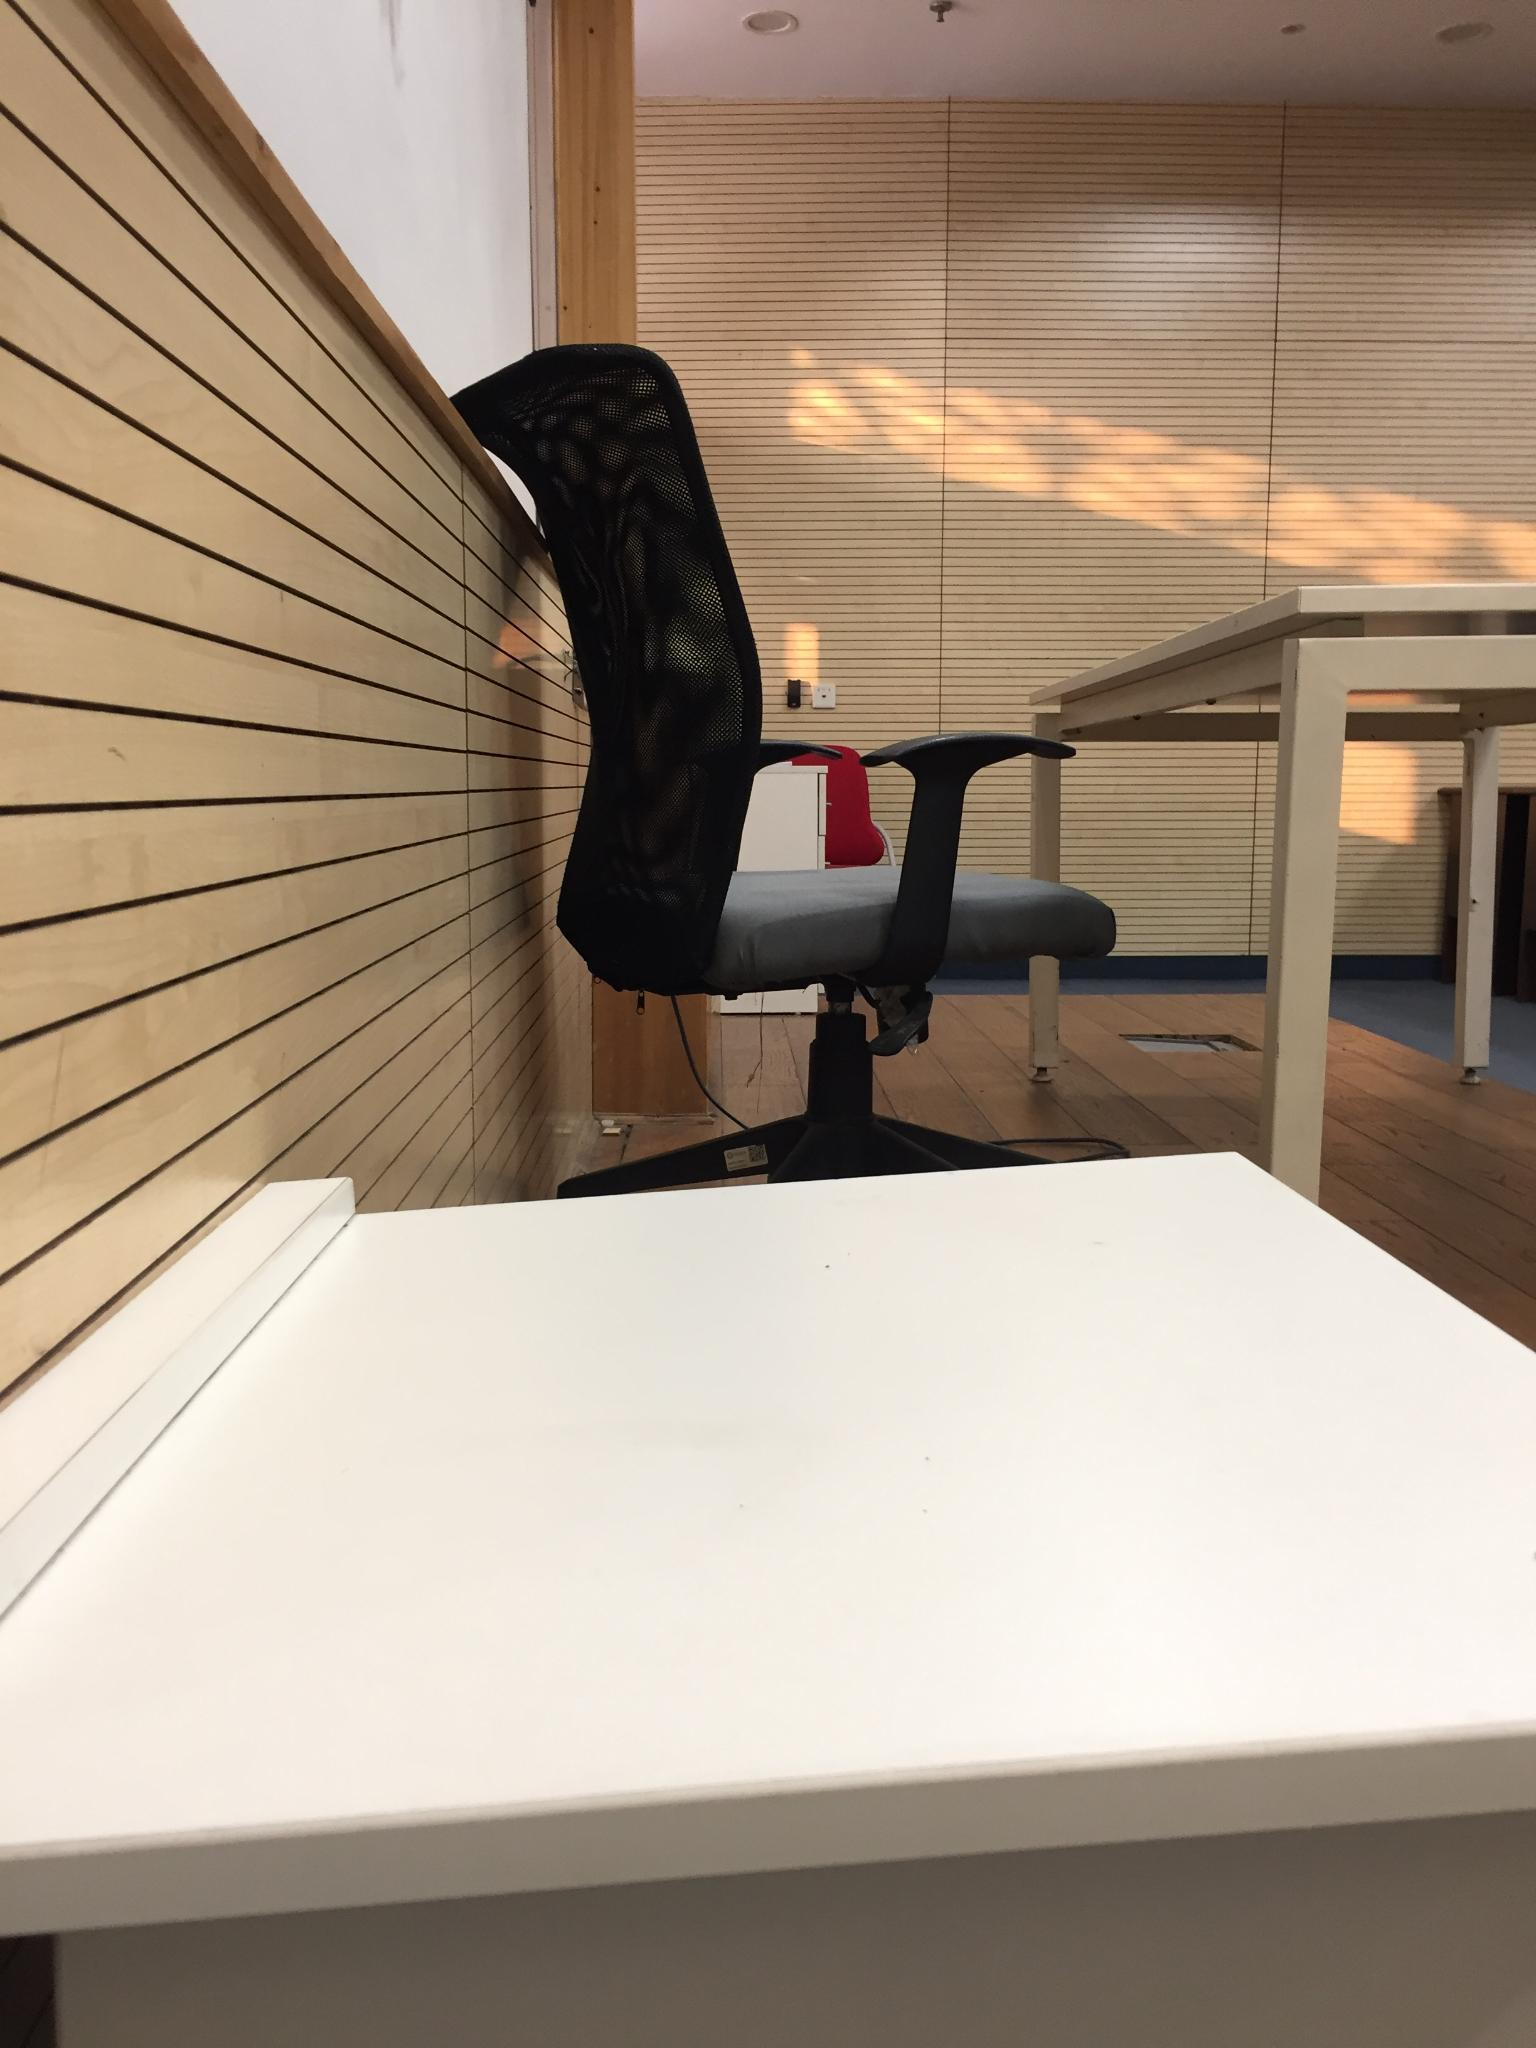chair: (445, 339, 1126, 1195)
